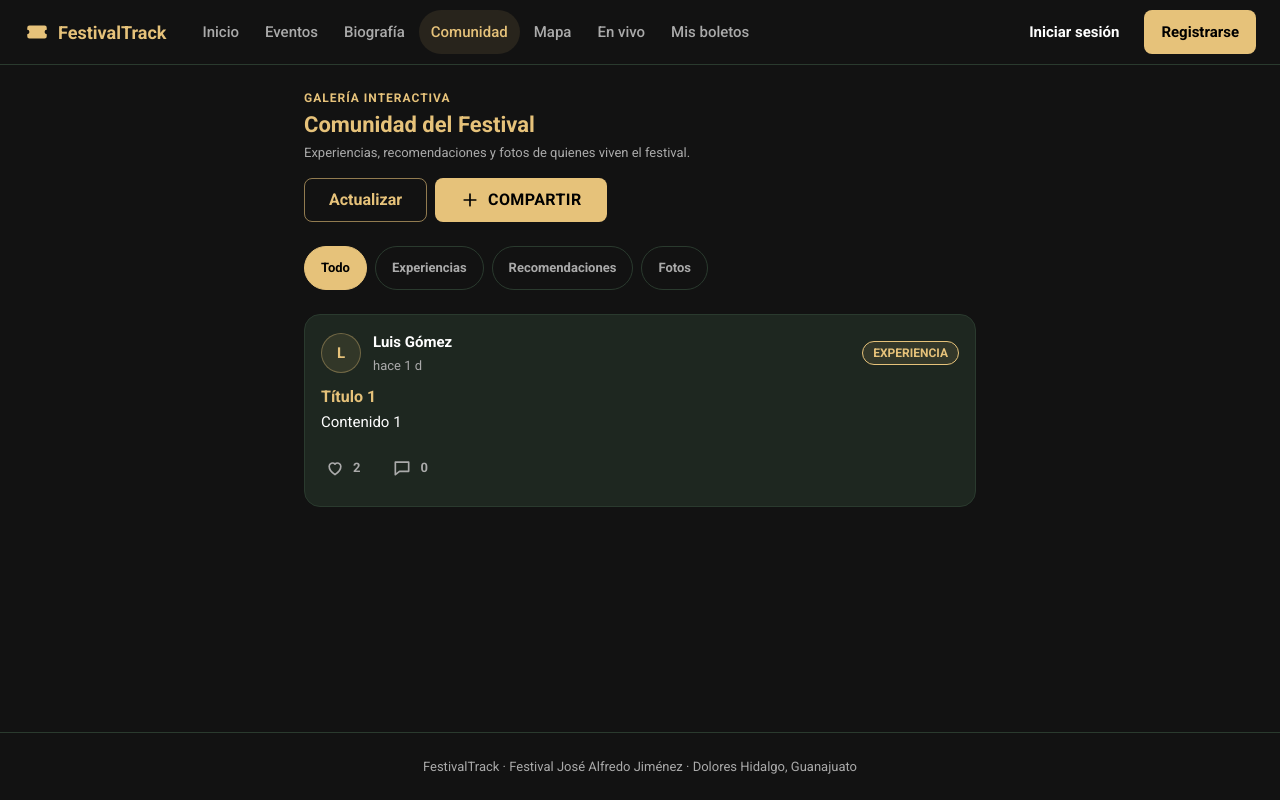
comunidad: lectura sin sesión › las acciones de escritura llevan al login
The width and height of the screenshot is (1280, 800).
Expected: the heading "Título 1" is shown, left=321, top=387, right=376, bottom=407
Click the button named "Me gusta".
click(343, 468)  # box left=313, top=446, right=372, bottom=490
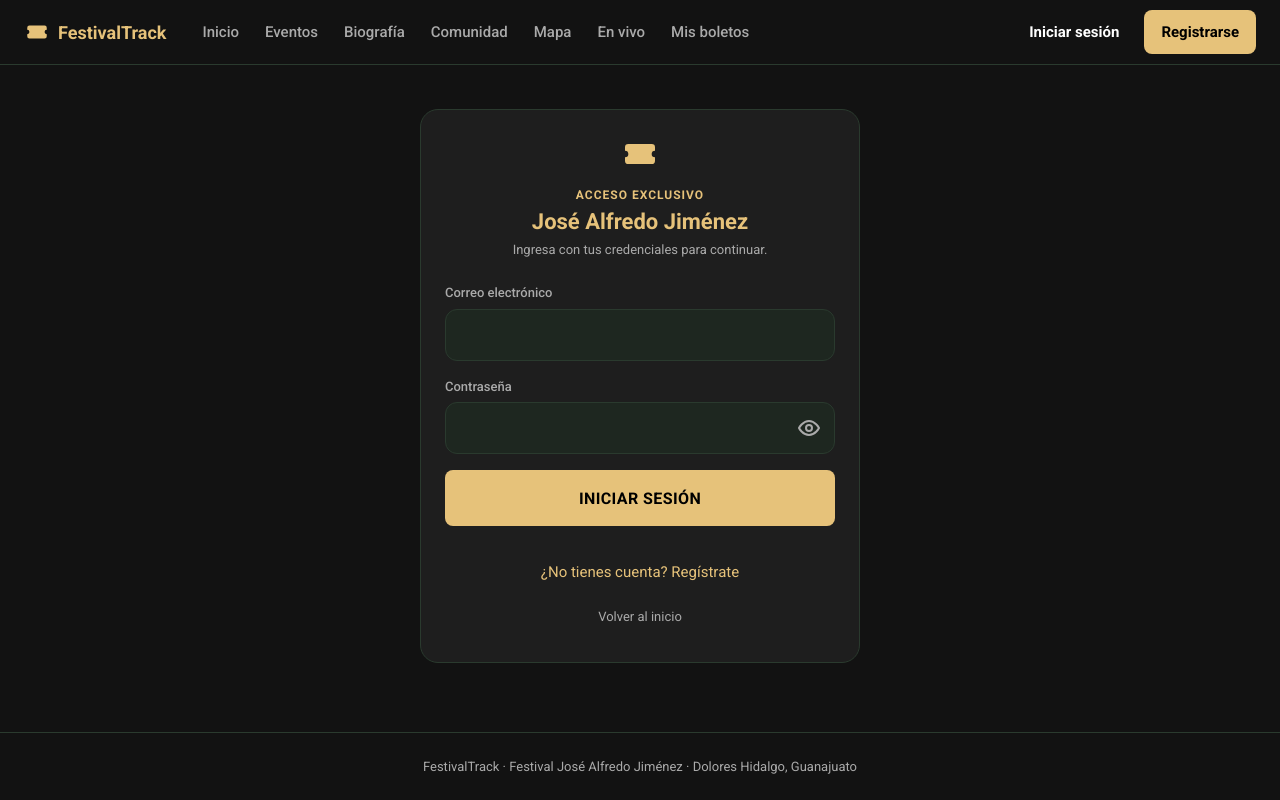
Now the heading "José Alfredo Jiménez" is shown, box left=532, top=208, right=748, bottom=236
